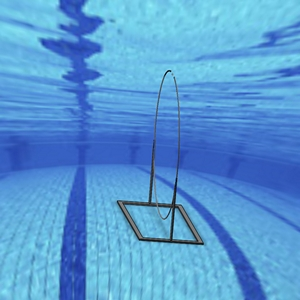circle: (114, 68, 205, 243)
